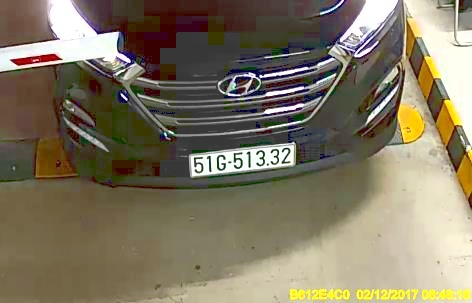plate: (184, 141, 299, 174)
